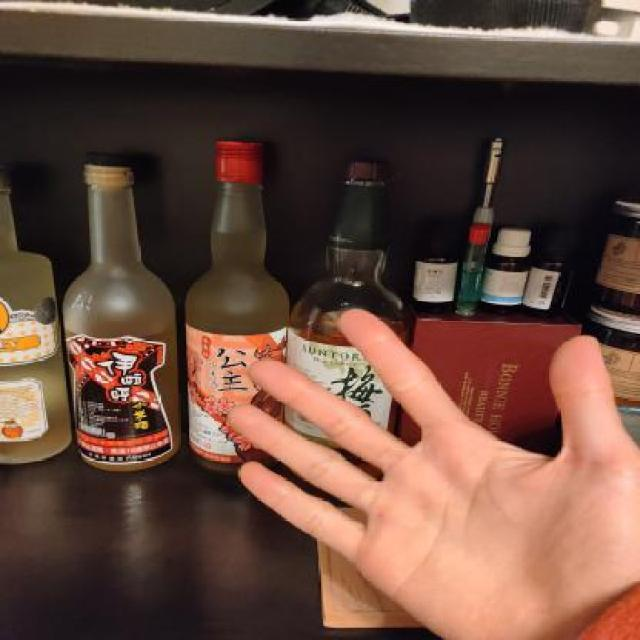bare_hand: (207, 283, 640, 640)
